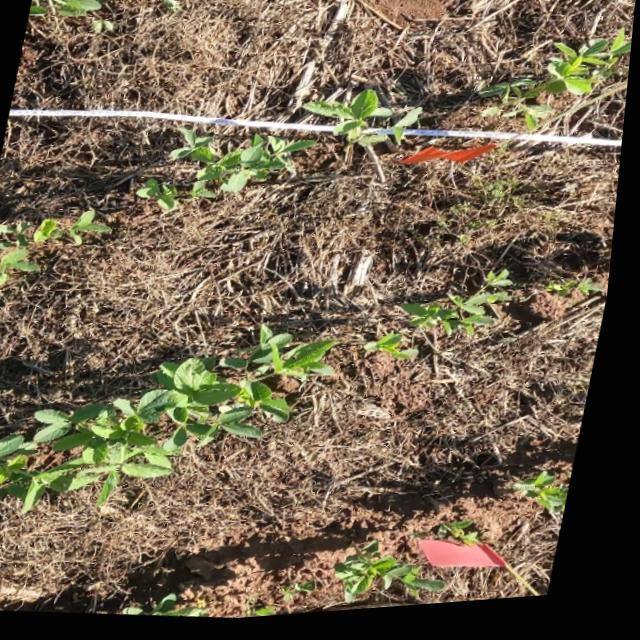soy_plant: (0, 328, 342, 512), (483, 38, 633, 137), (136, 131, 316, 211), (406, 276, 519, 382), (0, 210, 115, 291), (346, 545, 457, 608), (305, 94, 395, 151), (520, 479, 578, 521), (135, 596, 222, 618), (371, 338, 426, 365), (30, 0, 101, 16), (553, 286, 609, 306), (448, 528, 489, 551), (395, 113, 423, 145), (252, 603, 295, 622), (294, 585, 330, 606)
